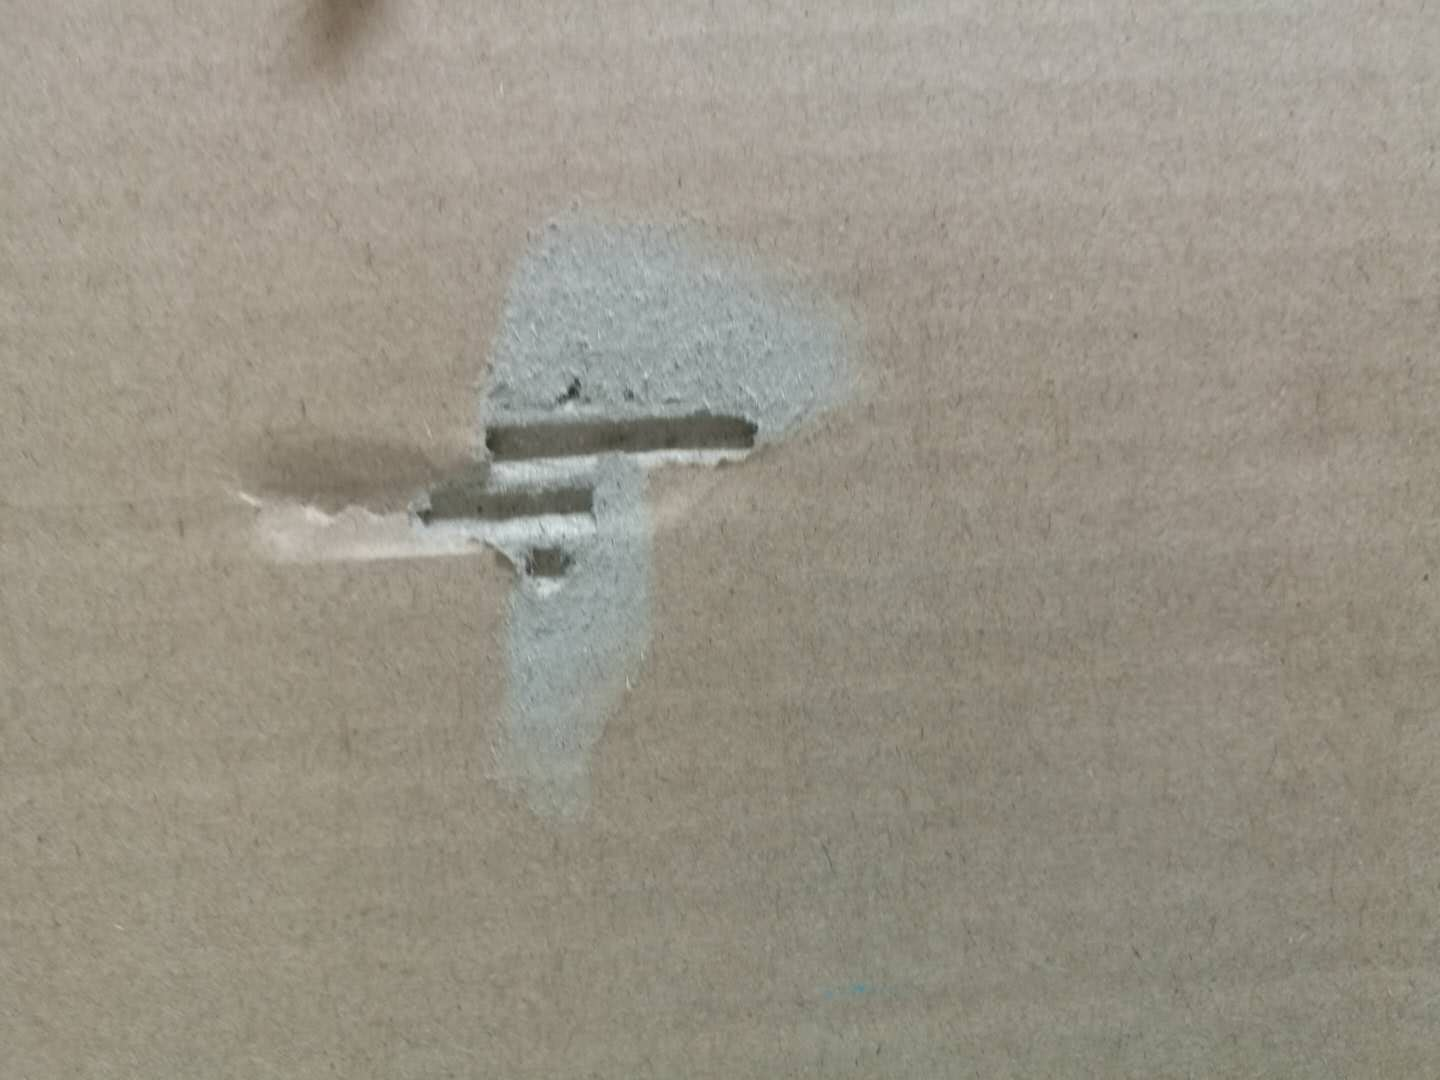defect: (209, 185, 910, 857), (262, 1, 421, 108)
